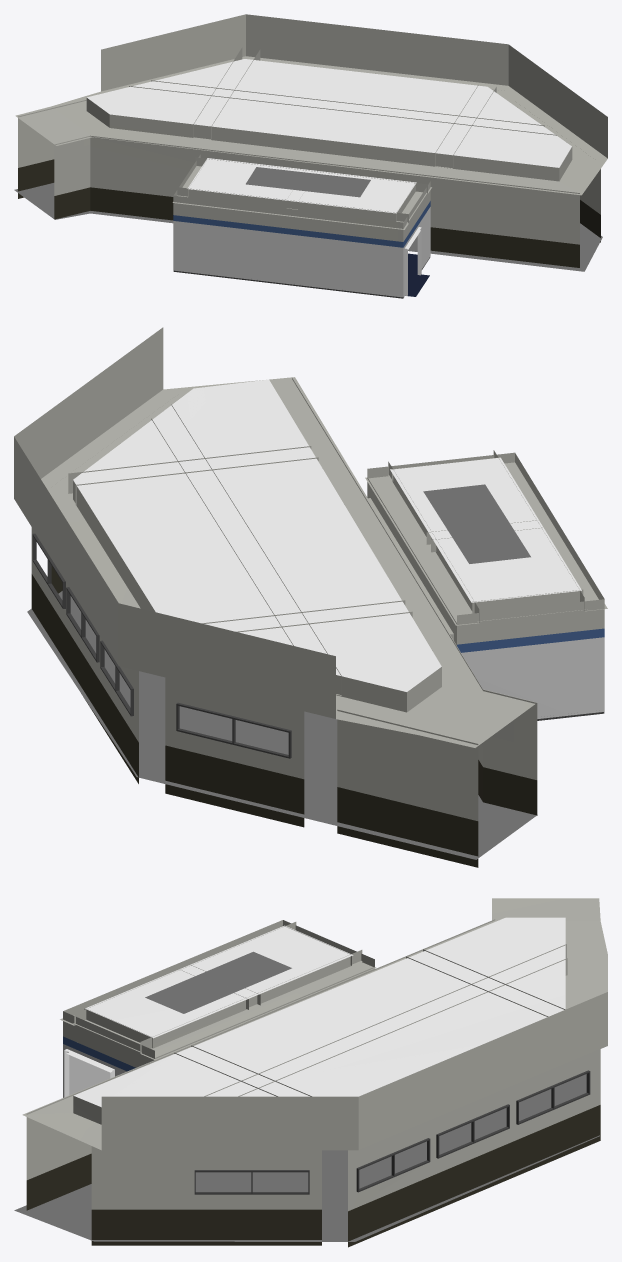
Rendered from SM_H_Building_Tide_Canteen_02F_ATLAS.fbx.
3 views of the same model, one above another, from view 1: azimuth 30°, elevation 25°; view 2: azimuth 150°, elevation 25°; view 3: azimuth 270°, elevation 25° (orthographic). The views are drawn at different scales.
Visible parts, largest first — view 1: SM_H_Building_Tide_Canteen_02F_ATLAS; view 2: SM_H_Building_Tide_Canteen_02F_ATLAS; view 3: SM_H_Building_Tide_Canteen_02F_ATLAS.
Boxes of the visible parts, left/top/right/bottom form: SM_H_Building_Tide_Canteen_02F_ATLAS: left=14, top=14, right=607, bottom=298; SM_H_Building_Tide_Canteen_02F_ATLAS: left=14, top=327, right=607, bottom=867; SM_H_Building_Tide_Canteen_02F_ATLAS: left=14, top=898, right=607, bottom=1247.
Size of the model in its own units: 2438 by 2417 by 723.
